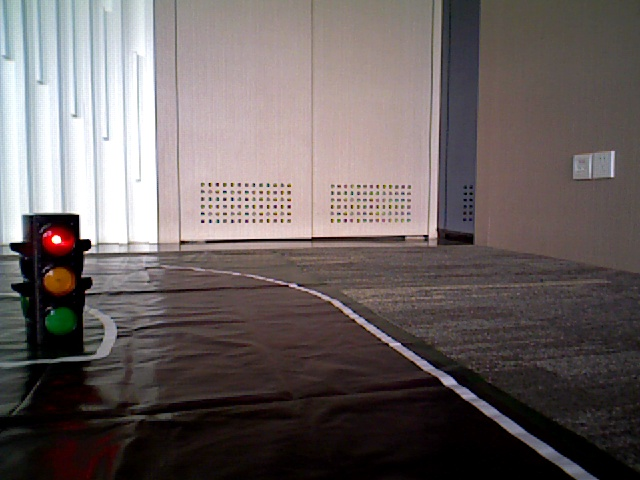red: (32, 217, 79, 343)
